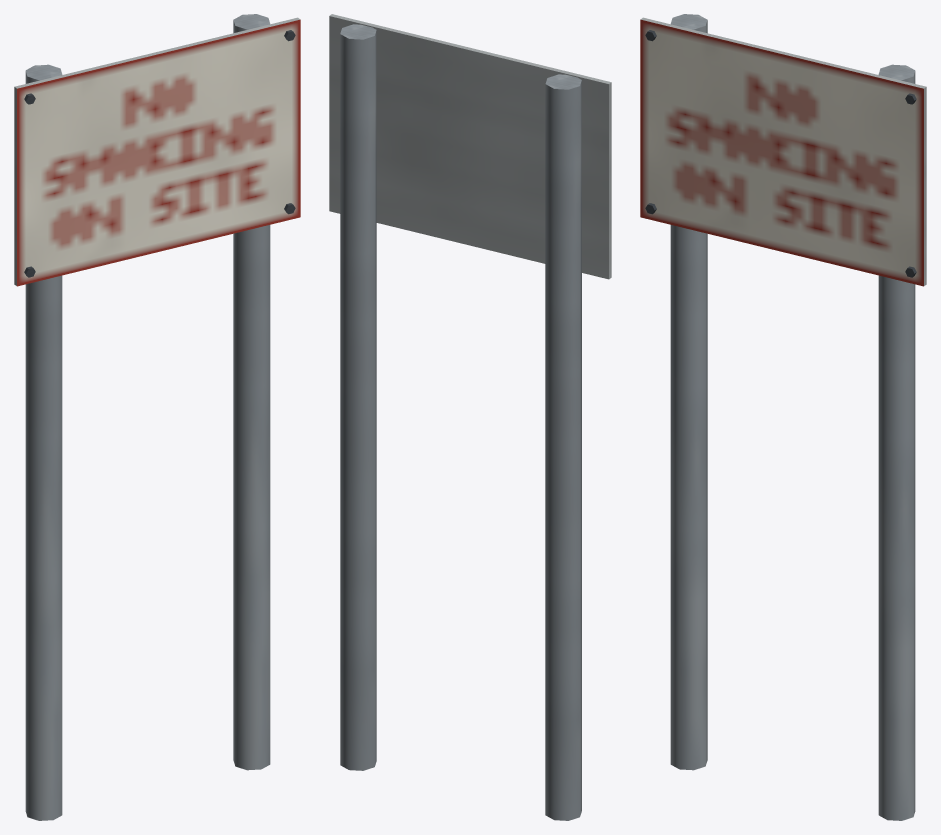
File: sign_lc_smoking.obj
The picture shows the model from 3 angles, left to right: view 1: azimuth 30°, elevation 25°; view 2: azimuth 150°, elevation 25°; view 3: azimuth 330°, elevation 25°; orthographic projection.
Parts seen in each view (by area): view 1: sign_lc_smoking; view 2: sign_lc_smoking; view 3: sign_lc_smoking.
Boxes of the visible parts, x1=… form: sign_lc_smoking: x1=14, y1=14, x2=300, y2=820; sign_lc_smoking: x1=329, y1=14, x2=611, y2=820; sign_lc_smoking: x1=640, y1=14, x2=926, y2=820.
Bounding box in the file's own units: 0.6 × 1.5 × 0.083.
1 material, 1 textured.
